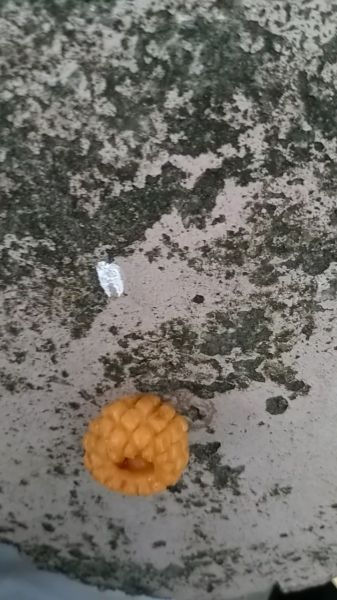eggs: (74, 391, 198, 503)
